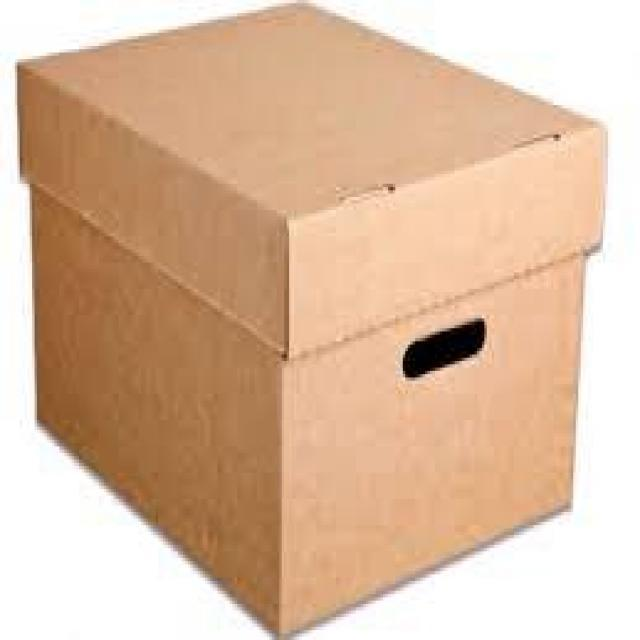box: (10, 1, 606, 640)
